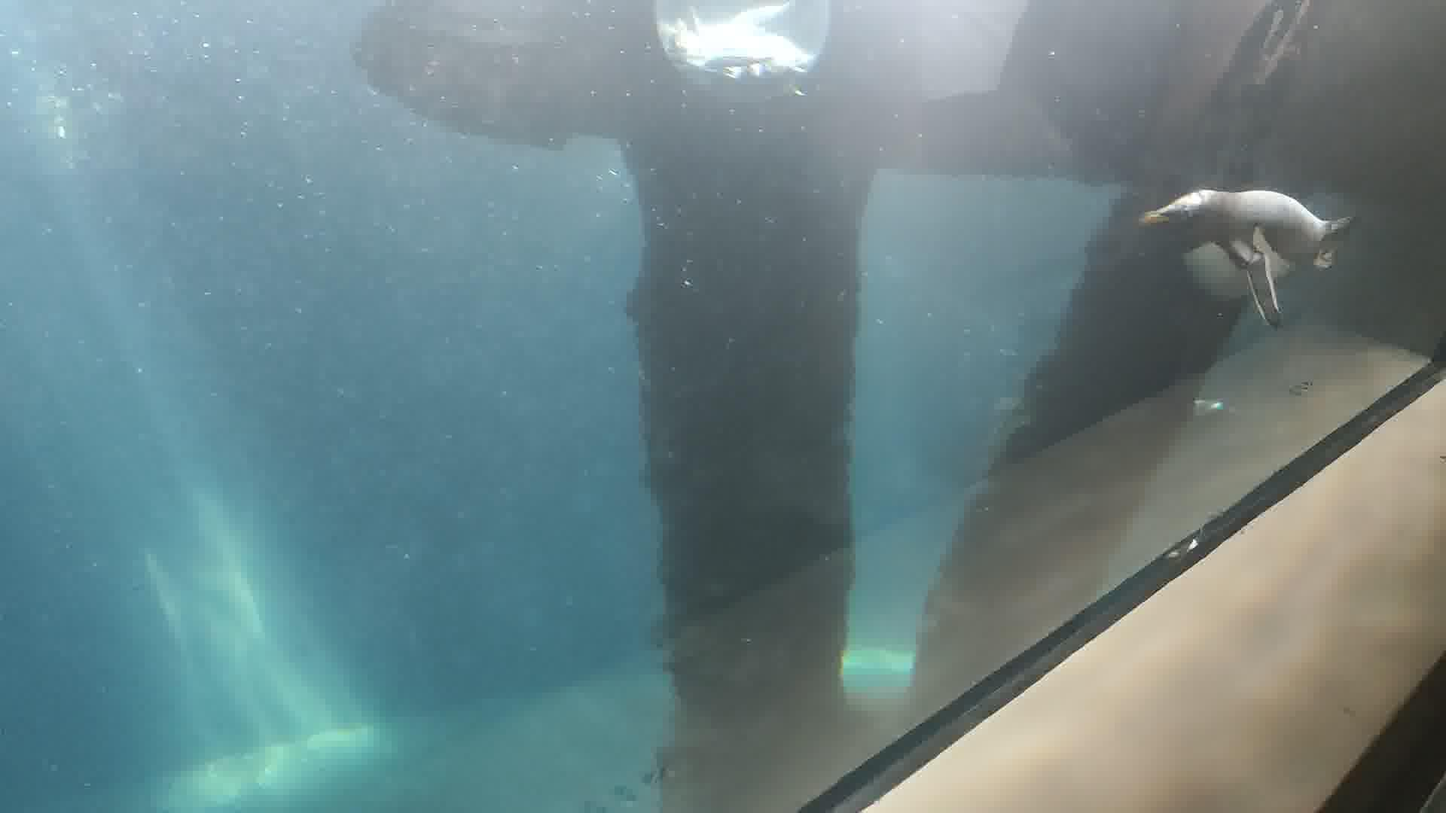apple: (1139, 188, 1355, 331)
